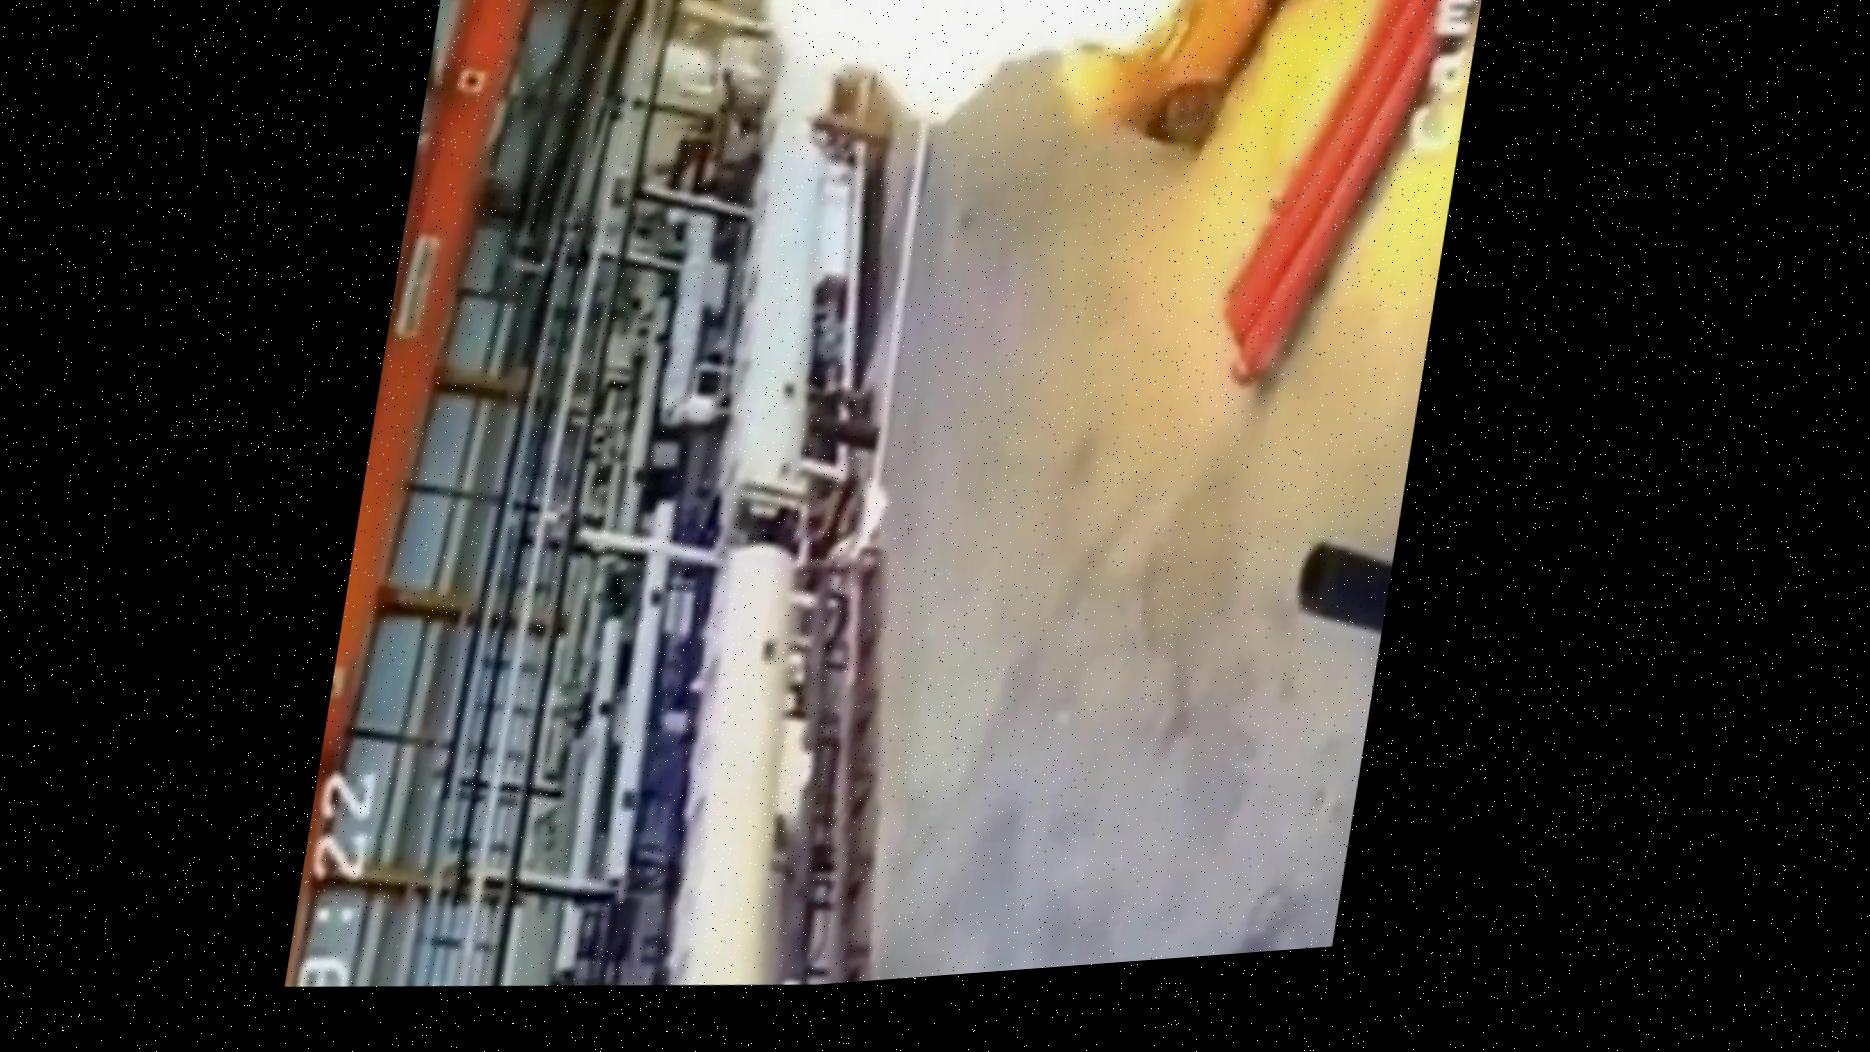fire: (628, 1, 1373, 320)
